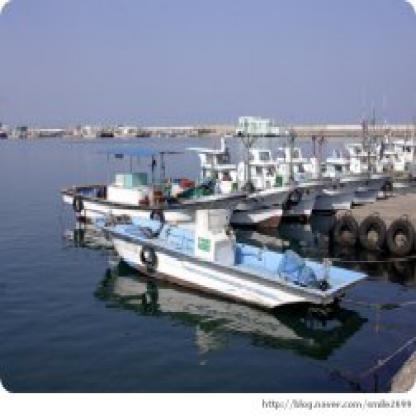fish-b: (96, 208, 383, 333)
